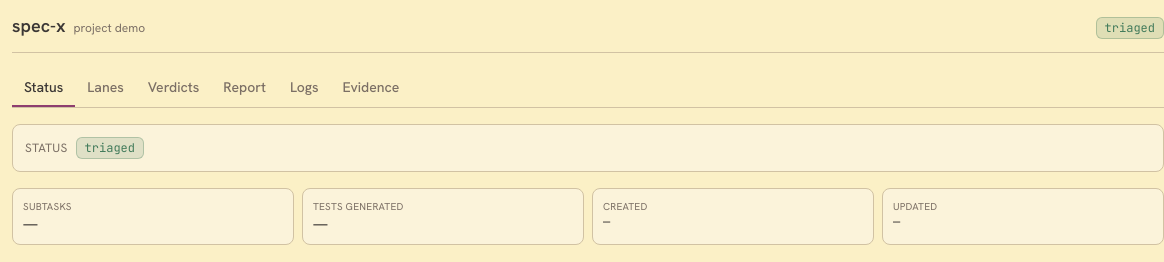
Scenario: <PFactoryTaskDetail> verdicts tab › shows friendly 404 message when verdicts endpoint returns 404
Click the tab with test id "tab-verdicts". click: [174, 88]
box: [136,69,211,107]
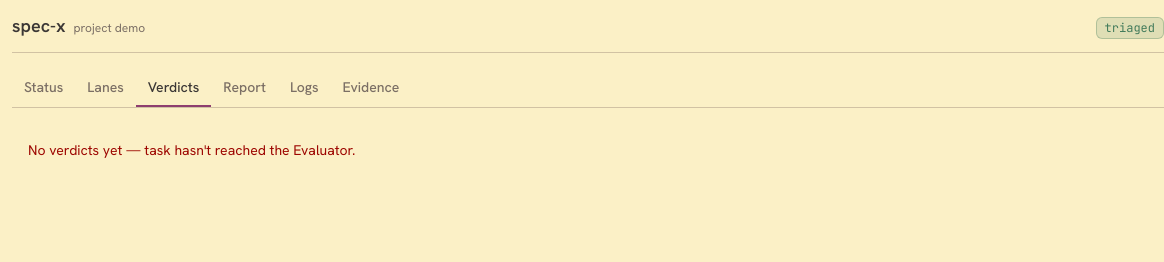
Result: the text "No verdicts yet — task hasn't reached the Evaluator." is shown at [28,141,355,159]
